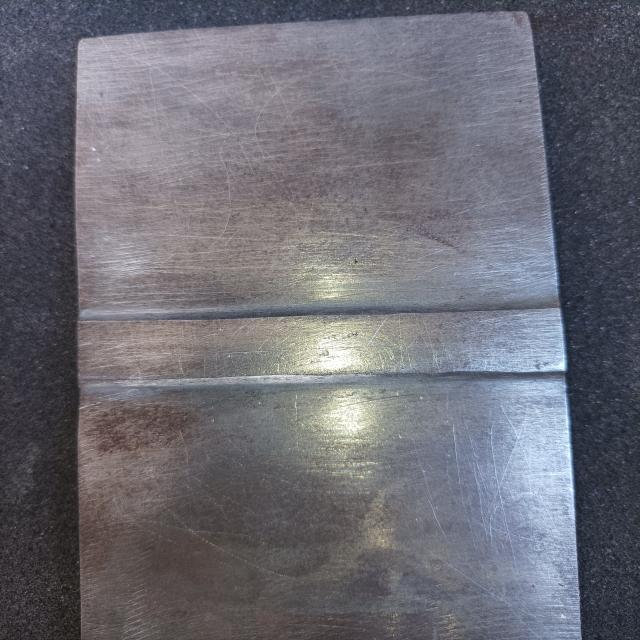Crack: (220, 345, 395, 355)
